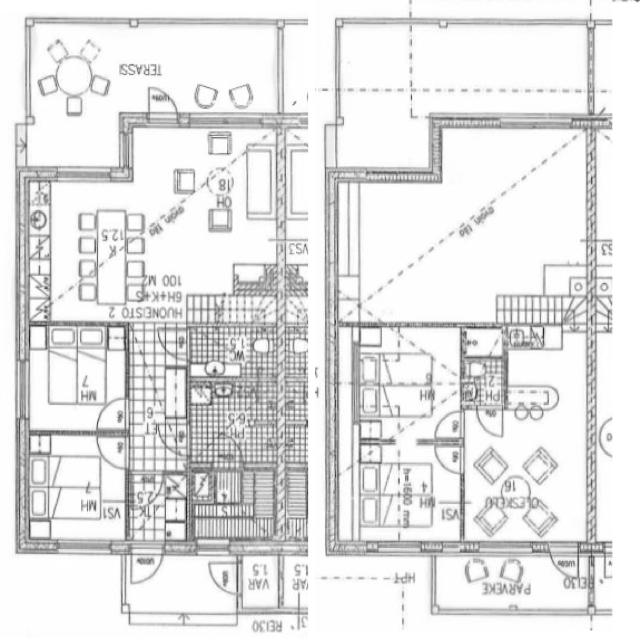door: (128, 542, 165, 588), (205, 556, 241, 596), (145, 84, 181, 124), (548, 543, 584, 581), (96, 434, 130, 471), (94, 398, 128, 432), (431, 408, 465, 441), (434, 442, 466, 477), (156, 324, 186, 360), (475, 404, 504, 439), (438, 537, 465, 560)
window: (326, 172, 364, 280), (37, 162, 119, 187), (171, 111, 273, 131), (497, 112, 576, 133), (360, 540, 426, 560), (52, 537, 114, 558)
zone: (343, 127, 596, 320), (45, 125, 290, 324), (462, 409, 594, 542), (414, 22, 592, 111), (132, 22, 282, 113), (353, 324, 462, 439), (24, 322, 128, 434), (25, 432, 127, 546), (355, 439, 462, 543), (432, 551, 585, 615), (187, 382, 279, 468), (190, 466, 282, 538), (188, 322, 278, 380), (460, 355, 508, 409), (239, 551, 280, 612), (461, 326, 505, 360)
